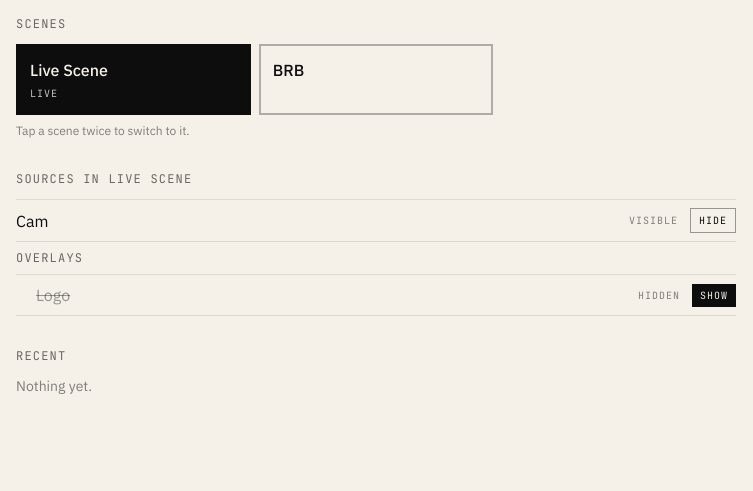
Scenario: StreamControlView › explains a refused request in plain words
Step 1. Click the button with aria-label "Hide Cam" → (713, 220), box [690,208,736,233]
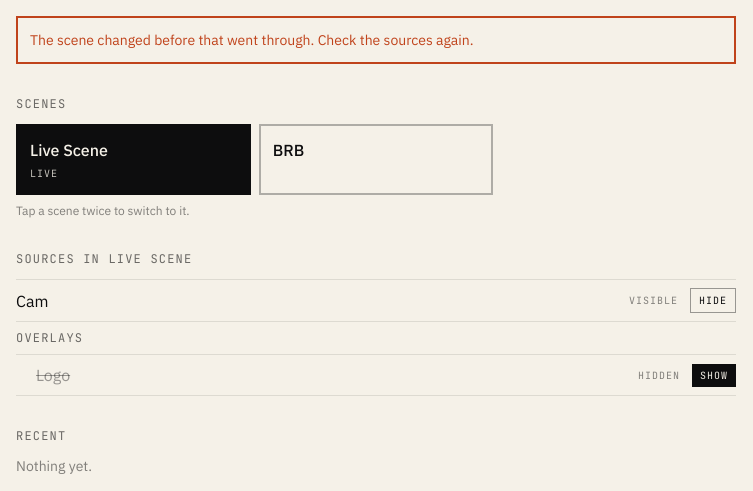
Expected: the message shows "The scene changed before that went through", [30,31,474,49]
